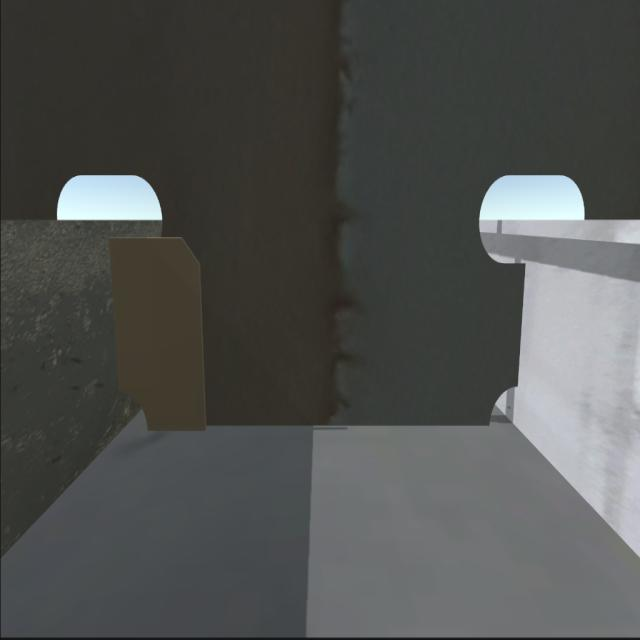fillet_hole: (485, 374, 525, 432), (114, 393, 151, 439)
fillet_yong_jeop_jang: (144, 416, 489, 442)
longi_yong_jeop_jang: (104, 236, 126, 399), (516, 258, 536, 385)
plate_CP03: (108, 239, 209, 433)
